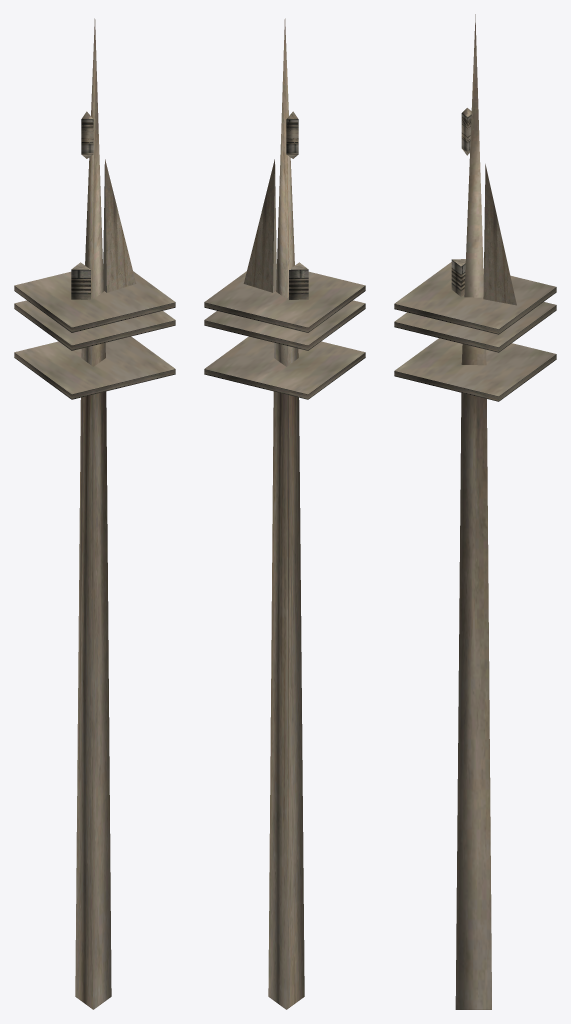
The model's file is thm_imprv_tato_antenna_s02_l3.fbx.
The picture shows the model from 3 angles, left to right: view 1: azimuth 30°, elevation 25°; view 2: azimuth 150°, elevation 25°; view 3: azimuth 330°, elevation 25°; orthographic projection.
Parts seen in each view (by area): view 1: mesh_node; view 2: mesh_node; view 3: mesh_node.
Boxes of the visible parts, x1=… form: mesh_node: x1=14, y1=18, x2=175, y2=1009; mesh_node: x1=204, y1=18, x2=365, y2=1009; mesh_node: x1=394, y1=14, x2=556, y2=1009.
Bounding box in the file's own units: 2.92 × 26.46 × 2.8.
